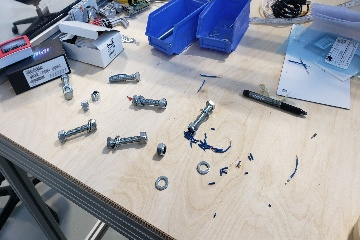Bolt: (107, 70, 143, 87)
FalseAssembly: (130, 91, 174, 113)
FinishedAssembly: (56, 117, 100, 147), (105, 130, 151, 152), (59, 71, 76, 102)
Nut: (185, 96, 217, 136), (155, 141, 169, 159), (78, 100, 92, 115), (90, 89, 102, 102)
Washer: (195, 160, 212, 175), (154, 174, 169, 191)
